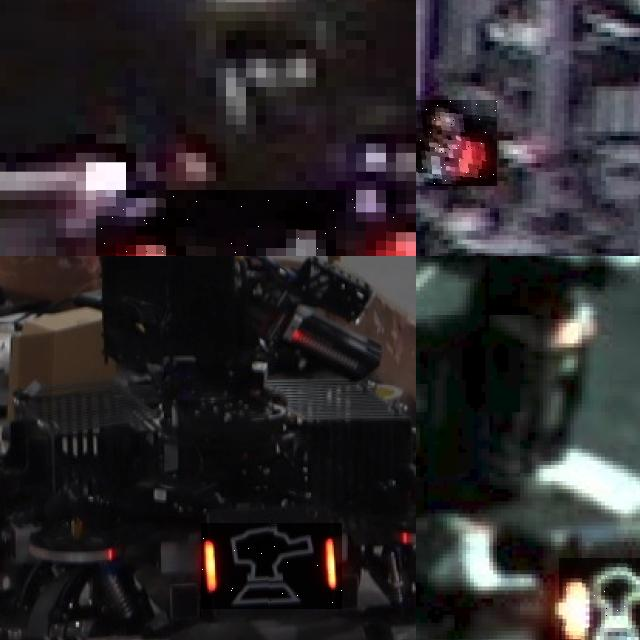R2: (416, 100, 497, 185)
R3: (96, 190, 416, 256)
Rs: (201, 523, 342, 609), (558, 558, 640, 640)
